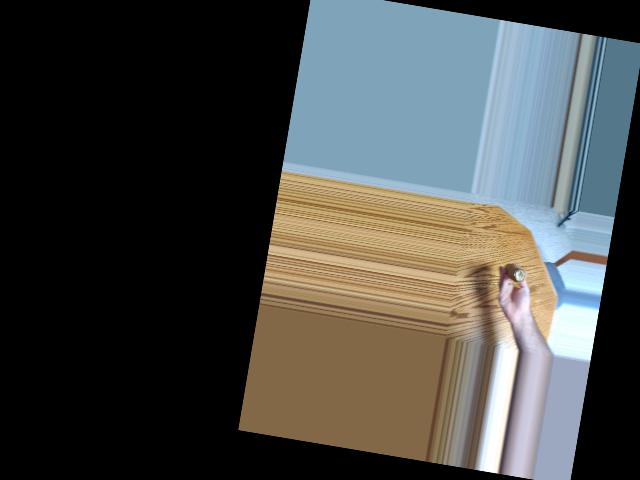sweet_potato: (500, 259, 531, 290)
